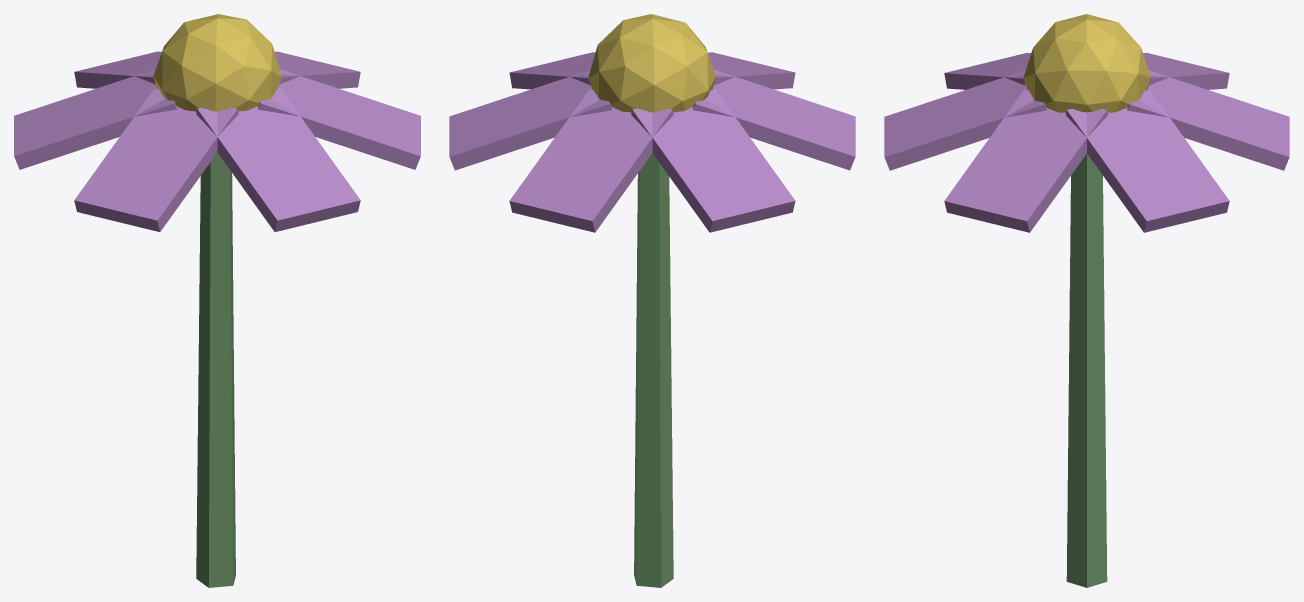
The model's file is nature_flower_03.glb.
3 views of the same model, side by side, from view 1: azimuth 30°, elevation 25°; view 2: azimuth 150°, elevation 25°; view 3: azimuth 270°, elevation 25° (orthographic).
Parts seen in each view (by area): view 1: geometry_0; view 2: geometry_0; view 3: geometry_0.
Boxes of the visible parts, x1=… form: geometry_0: x1=14, y1=14, x2=420, y2=587; geometry_0: x1=449, y1=14, x2=855, y2=587; geometry_0: x1=884, y1=14, x2=1289, y2=587.
Size of the model in its own units: 0.3749 by 0.5803 by 0.3809.
